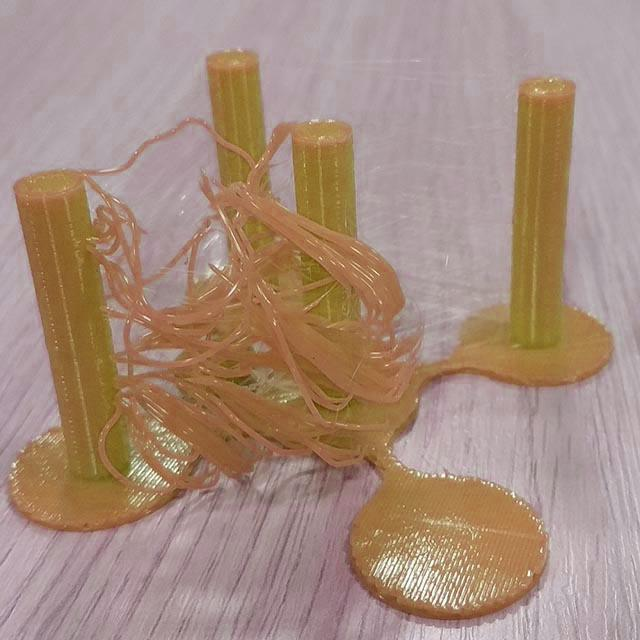Spaghetti: (79, 117, 424, 494)
